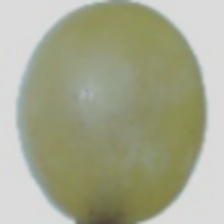grapes: (12, 4, 201, 194)
